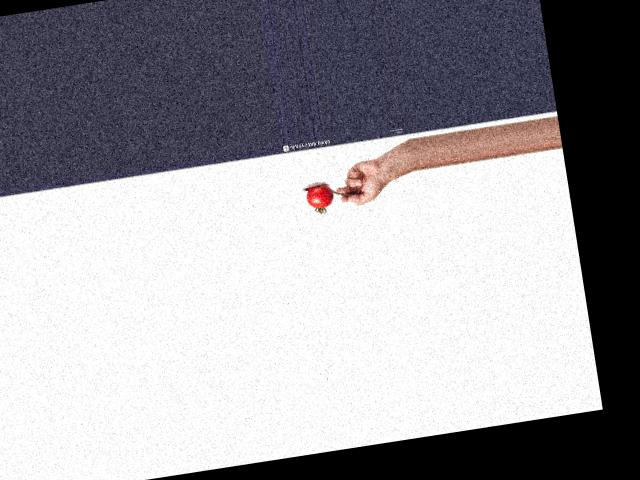tomato: (305, 183, 335, 210)
